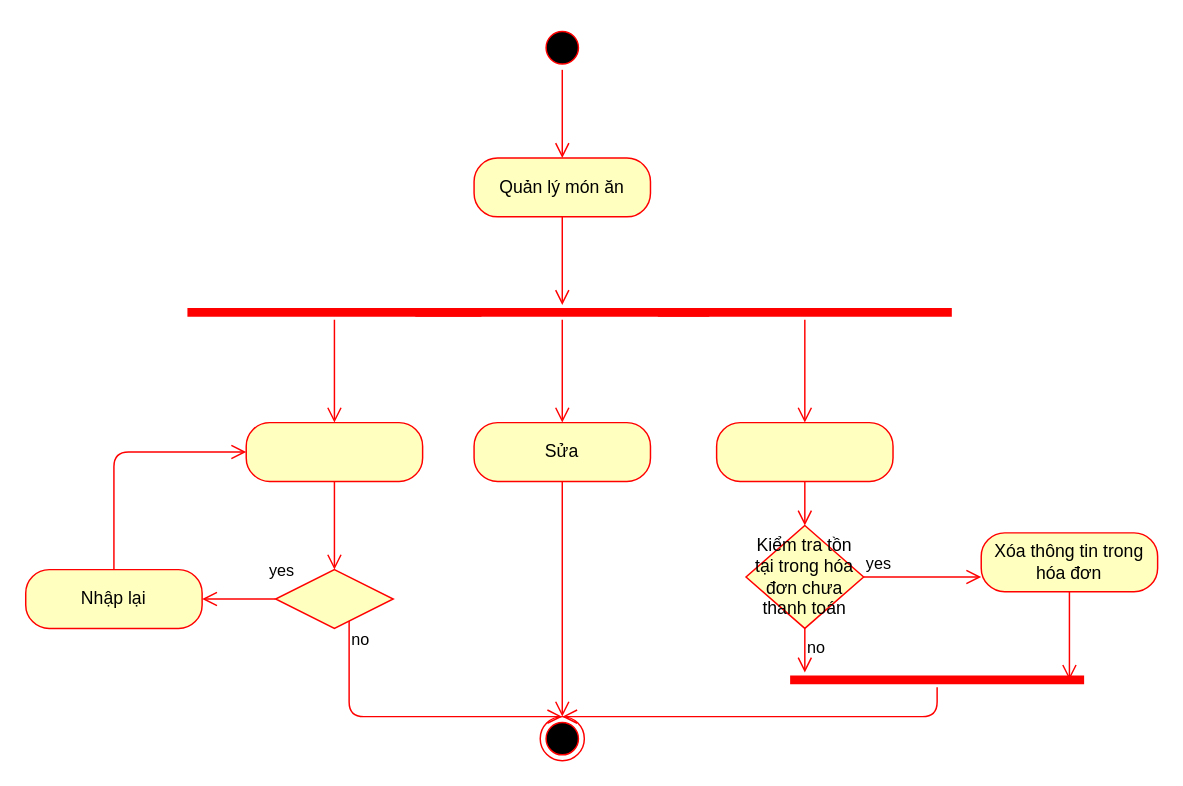
Image size: 1183x786. Some labels were removed from this diagram. The box of each missing label's shape, as (x1, y1, x2, y2) in pixels:
Kiểm tra tồn tại: (274, 568, 393, 628)
Thêm: (245, 421, 423, 481)
Xóa: (715, 421, 893, 481)
